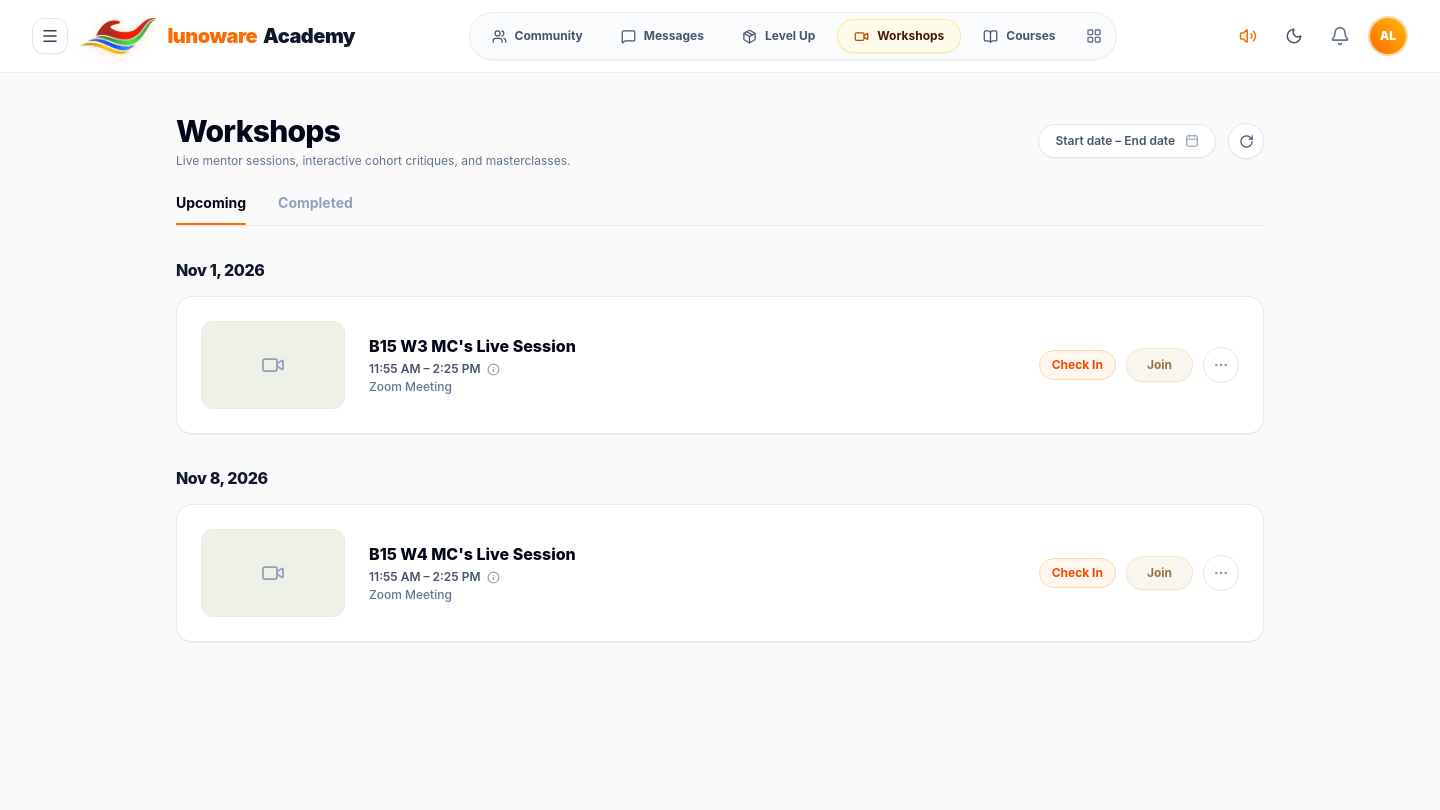
Test: WorkshopsPage - Full Screen Workshops Layout › opens session information modal when clicking info icon
The image size is (1440, 810).
Check: the heading "B15 W3 MC's Live Session" is shown, box [369, 335, 576, 357]
Click the button titled "Session details" below "B15 W3 MC's Live Session". click: (493, 369)
box: [486, 362, 500, 376]
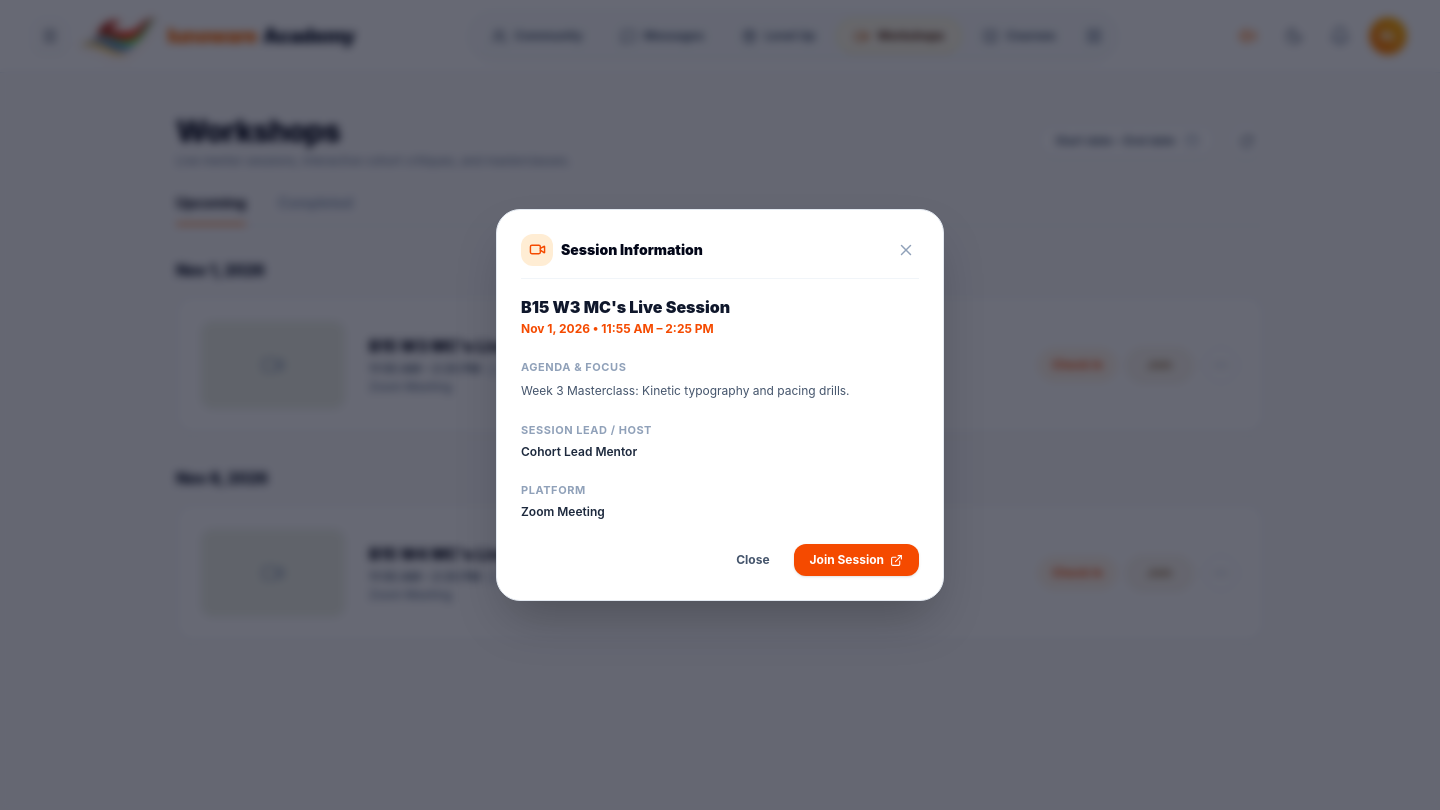
Check: the heading "Session Information" is shown, box [561, 240, 703, 260]
Check: the button "Join Session" is shown, box [794, 544, 919, 576]
# Close modal
Click the button "Close". click: (753, 560)
box: [720, 544, 786, 576]
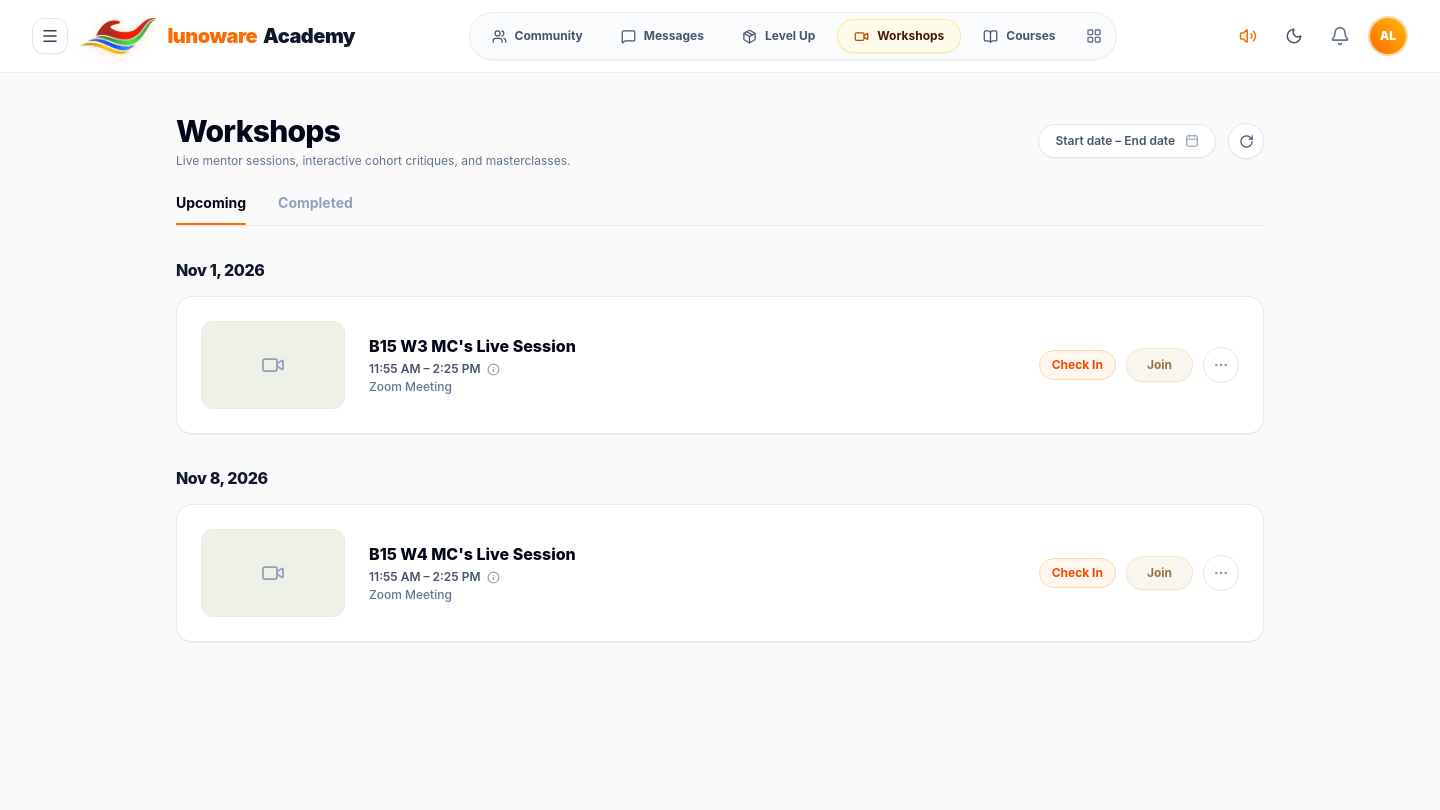
Check: the heading "Session Information" is gone
